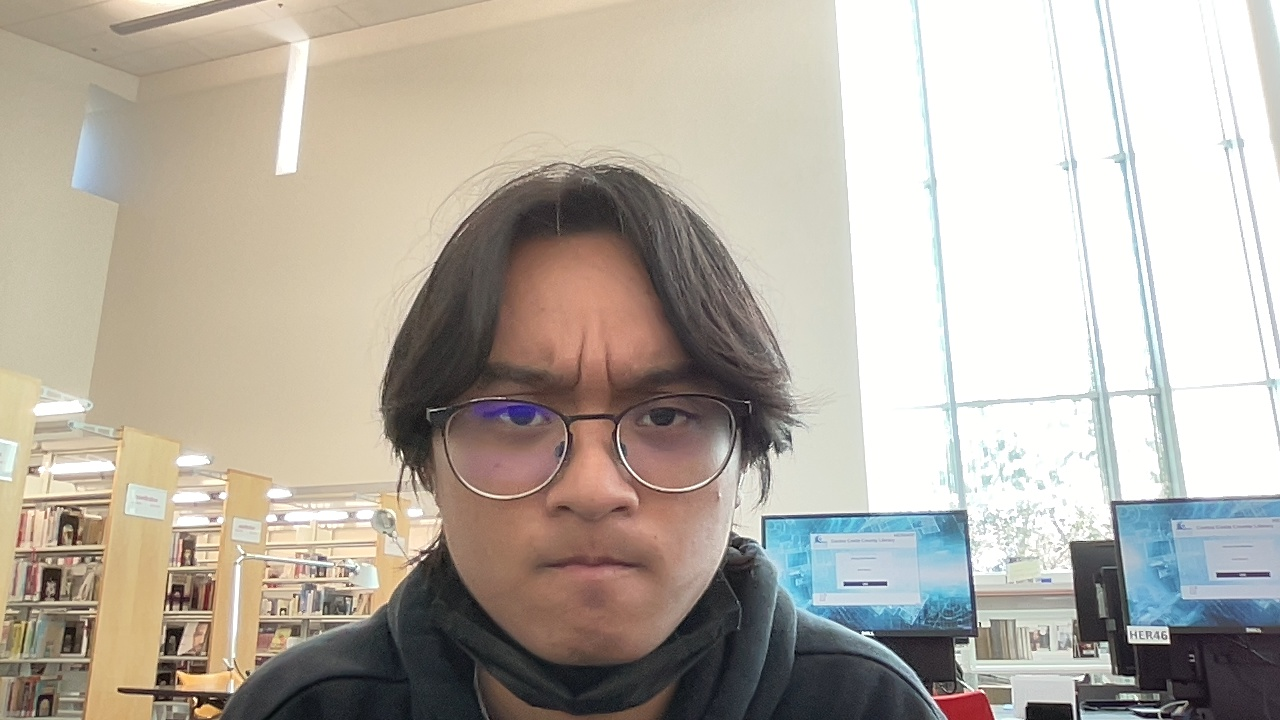anger: (383, 147, 781, 675)
